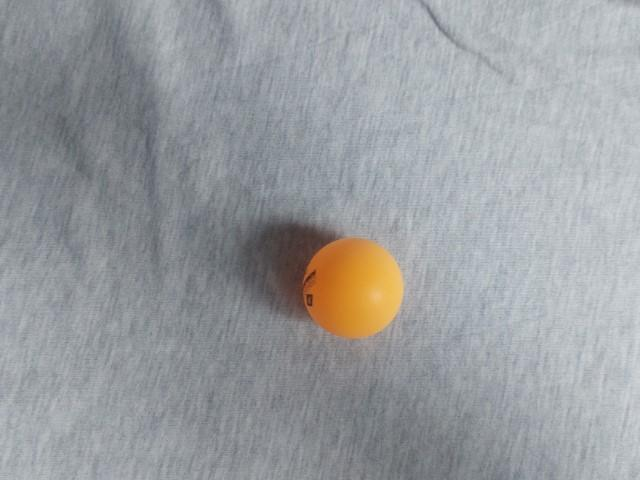oball: (225, 133, 345, 250)
